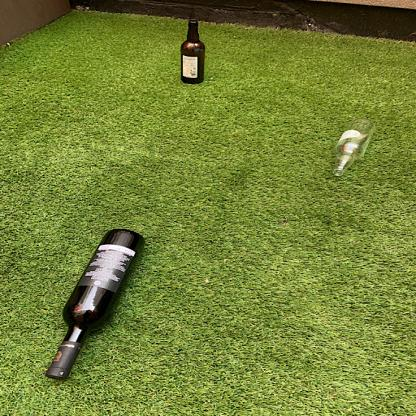trash: (40, 230, 148, 385), (330, 120, 379, 178), (177, 20, 208, 85)
